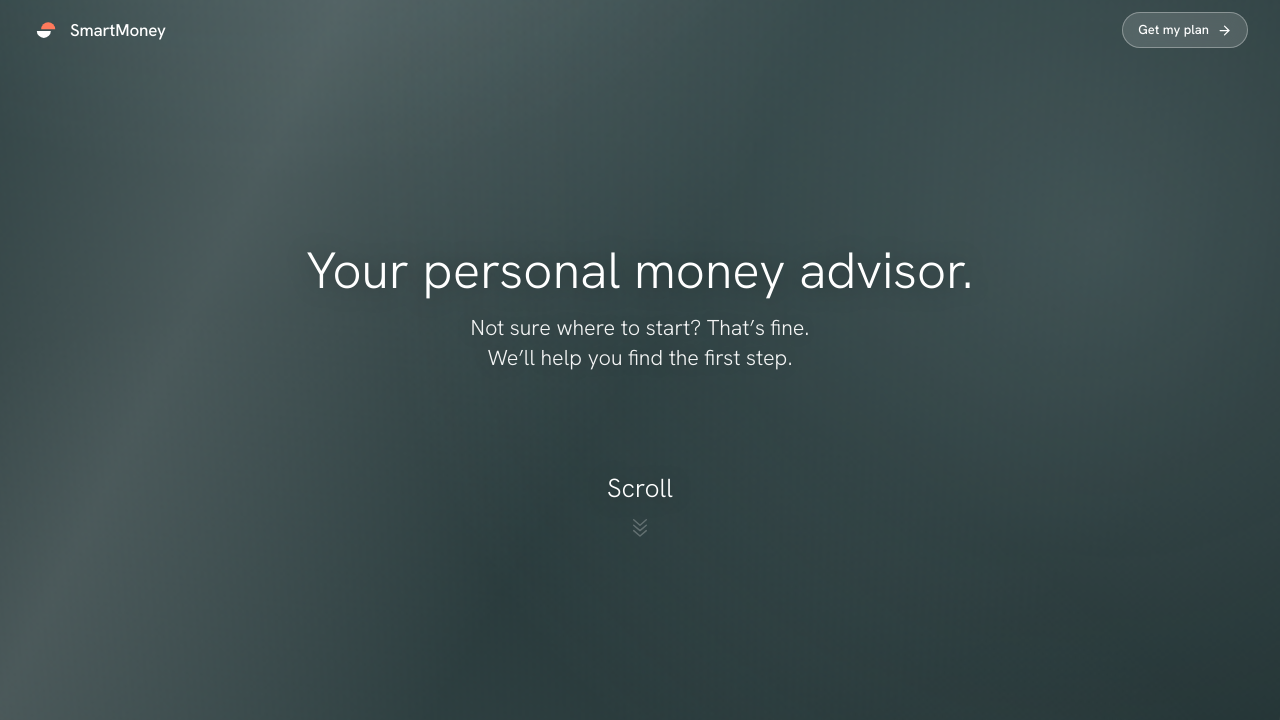
Scenario: routes › goes from the landing page to setup
Click the link "Get my plan" at (1185, 30), box left=1122, top=12, right=1248, bottom=48
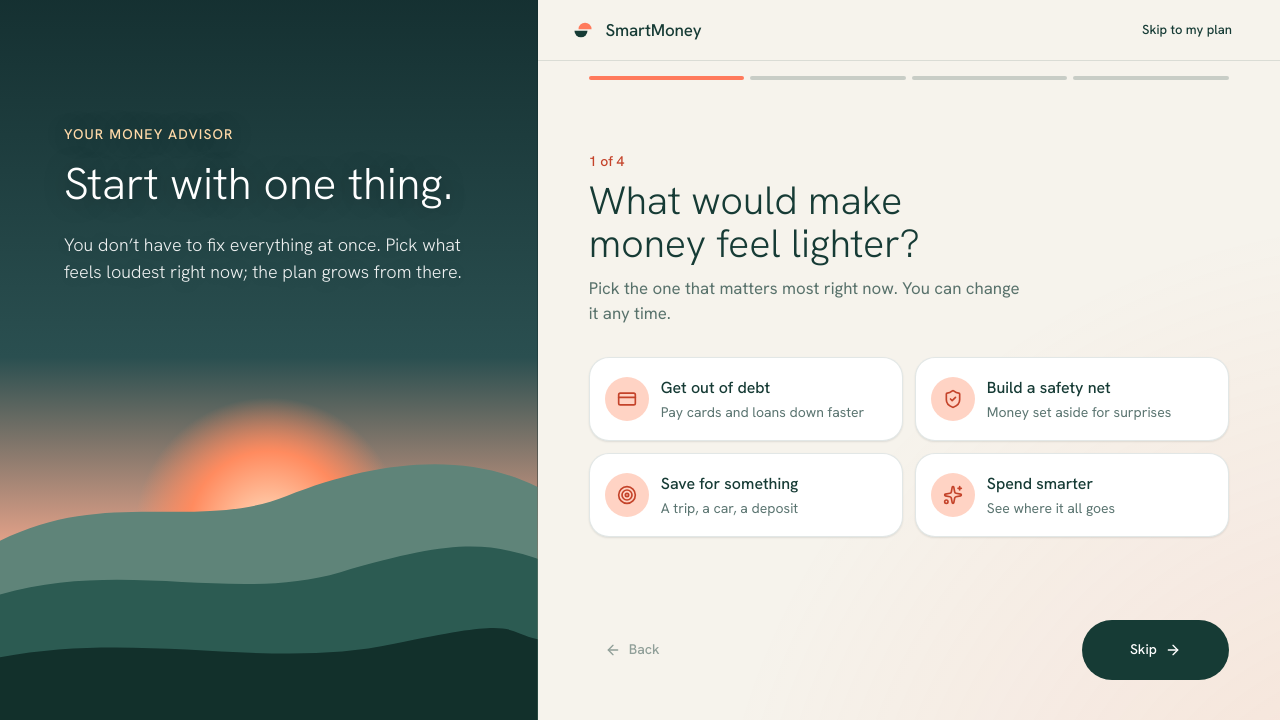
Check: the heading "What would make money feel lighter?" is shown, box left=589, top=174, right=920, bottom=269
